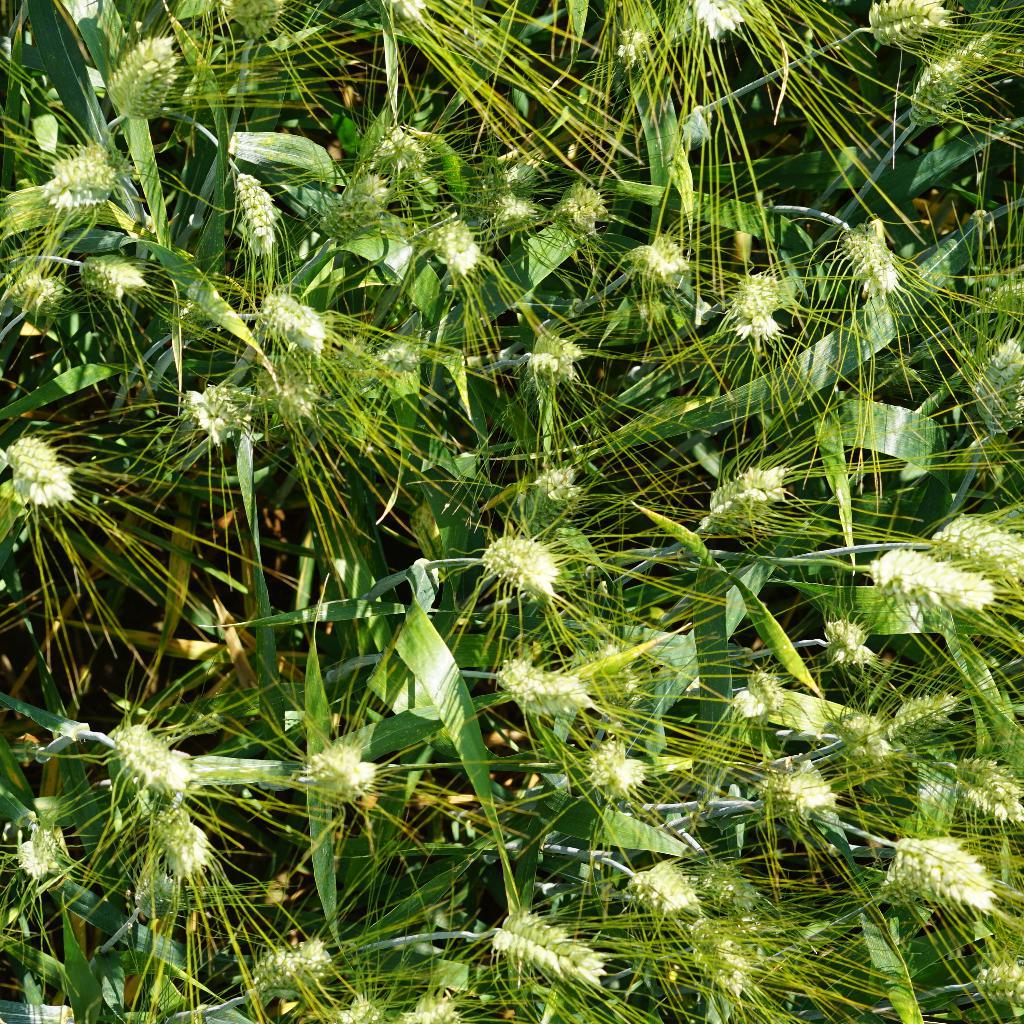0-0: (474, 903, 617, 987), (890, 825, 1011, 912), (860, 541, 997, 617), (466, 523, 576, 612), (93, 25, 183, 133), (914, 499, 1024, 584), (482, 657, 594, 737), (103, 701, 190, 798), (310, 164, 403, 253), (236, 335, 325, 425), (826, 212, 907, 309), (889, 34, 976, 124), (448, 158, 551, 232), (610, 844, 697, 926), (583, 627, 649, 733), (224, 151, 288, 260), (284, 736, 395, 798), (707, 456, 807, 523), (33, 137, 124, 209), (681, 912, 757, 998), (750, 751, 840, 823), (571, 740, 667, 807), (365, 118, 466, 180), (261, 291, 344, 362), (250, 926, 337, 993), (718, 262, 793, 339), (14, 810, 83, 893), (967, 325, 1024, 424), (681, 856, 769, 920), (511, 317, 591, 387), (156, 803, 224, 885), (941, 750, 1024, 817), (73, 243, 165, 303), (418, 200, 490, 271), (881, 690, 968, 748), (182, 373, 253, 444), (617, 224, 688, 295), (825, 349, 930, 395), (819, 602, 885, 675), (828, 711, 904, 774), (862, 0, 953, 51), (725, 664, 795, 729), (516, 458, 602, 509), (544, 175, 617, 234), (677, 0, 776, 42), (387, 974, 470, 1024), (158, 291, 228, 347), (4, 472, 91, 517), (2, 436, 75, 488), (957, 945, 1024, 1000), (0, 260, 68, 314), (865, 856, 932, 910), (217, 0, 294, 45), (320, 329, 378, 386), (132, 868, 190, 923), (377, 331, 436, 384), (607, 23, 655, 72)
